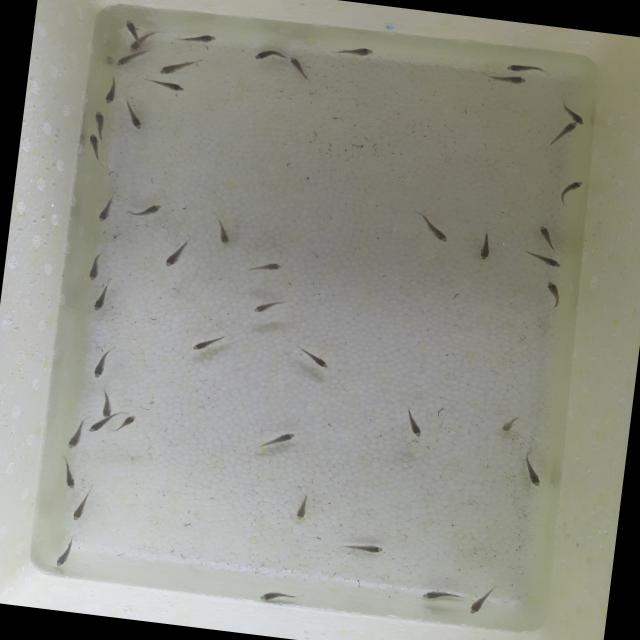fingerling: (414, 208, 451, 240), (289, 344, 332, 369), (88, 281, 115, 319), (413, 584, 456, 607), (158, 54, 200, 76), (253, 583, 295, 604), (190, 331, 228, 354), (144, 75, 188, 94), (259, 431, 295, 454), (94, 388, 119, 421), (556, 174, 584, 203), (562, 100, 590, 128), (288, 492, 314, 522), (466, 591, 492, 620), (472, 232, 494, 264), (286, 56, 314, 81), (534, 224, 560, 250), (525, 253, 564, 270), (98, 78, 120, 108), (66, 414, 85, 448), (86, 413, 114, 436), (128, 198, 160, 218), (86, 107, 110, 133), (165, 239, 188, 266), (490, 73, 528, 89), (122, 105, 144, 132), (543, 280, 564, 308), (347, 540, 383, 556), (520, 460, 542, 486), (402, 412, 424, 438), (178, 28, 217, 42), (121, 18, 145, 40), (253, 296, 282, 314), (55, 541, 74, 568), (248, 258, 280, 274), (110, 52, 142, 68), (500, 61, 539, 74), (98, 191, 116, 219), (499, 412, 520, 436), (60, 462, 78, 489), (68, 496, 86, 523), (557, 120, 579, 142), (334, 44, 374, 56), (252, 47, 280, 64), (214, 219, 232, 244), (90, 350, 108, 374), (88, 252, 101, 278), (84, 133, 100, 154), (125, 37, 141, 55), (121, 412, 138, 428)
